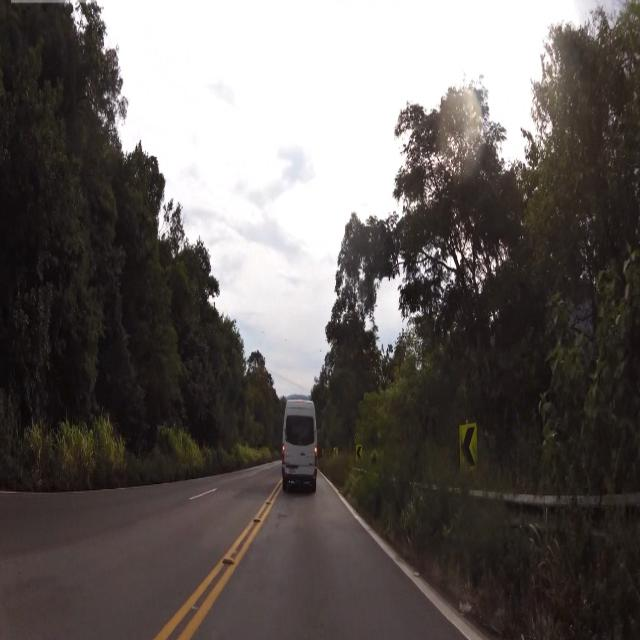Del: (458, 421, 478, 476)
